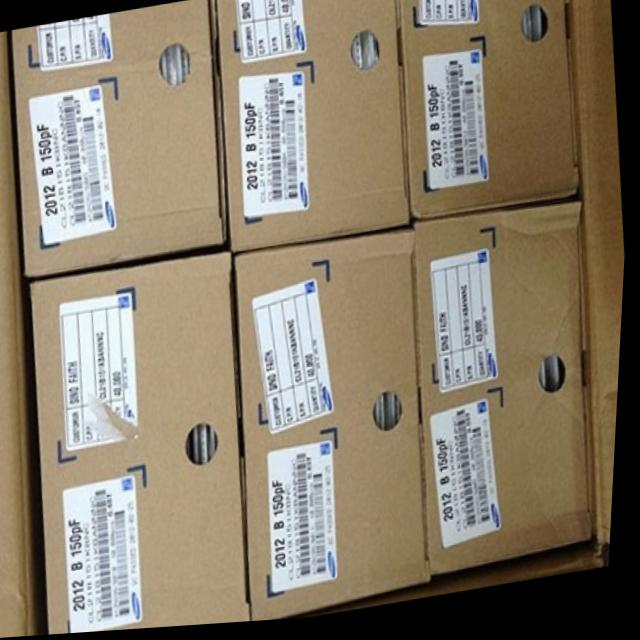box: (32, 254, 256, 636), (238, 232, 438, 625), (416, 208, 600, 580), (12, 0, 228, 278), (216, 0, 412, 259), (400, 0, 582, 226)
